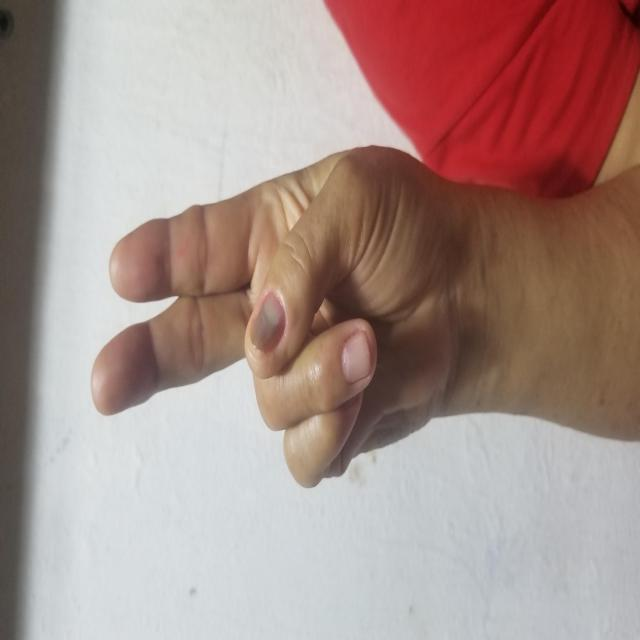U: (149, 91, 499, 445)
